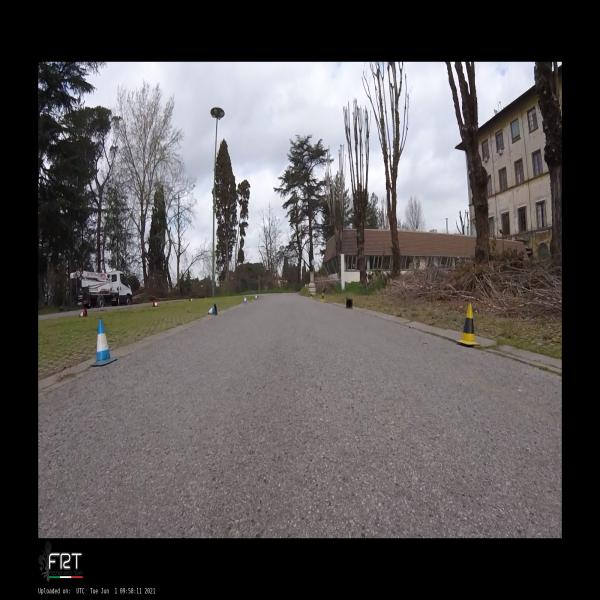blue_cone: (91, 318, 118, 366), (208, 304, 218, 315), (243, 295, 247, 305), (255, 293, 257, 300)
orange_cone: (79, 308, 87, 317), (152, 300, 158, 307), (189, 298, 193, 301)
unknown_cone: (346, 298, 352, 309)
yellow_cone: (456, 304, 480, 346), (321, 292, 325, 301), (310, 294, 313, 299)
